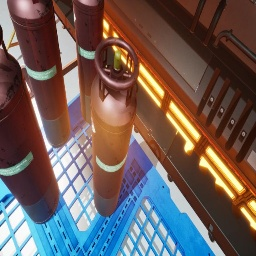NitrogenTank ,: (0, 24, 60, 224), (7, 0, 71, 148), (90, 36, 139, 217), (72, 0, 104, 124)
